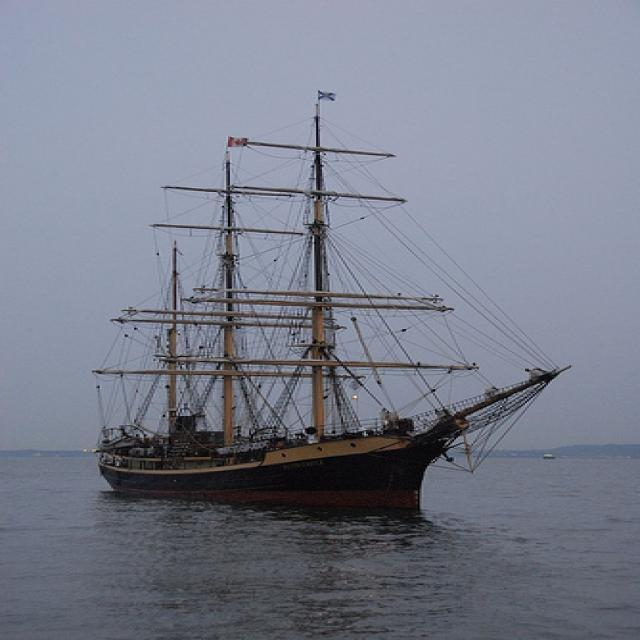Ship: (76, 101, 583, 520)
